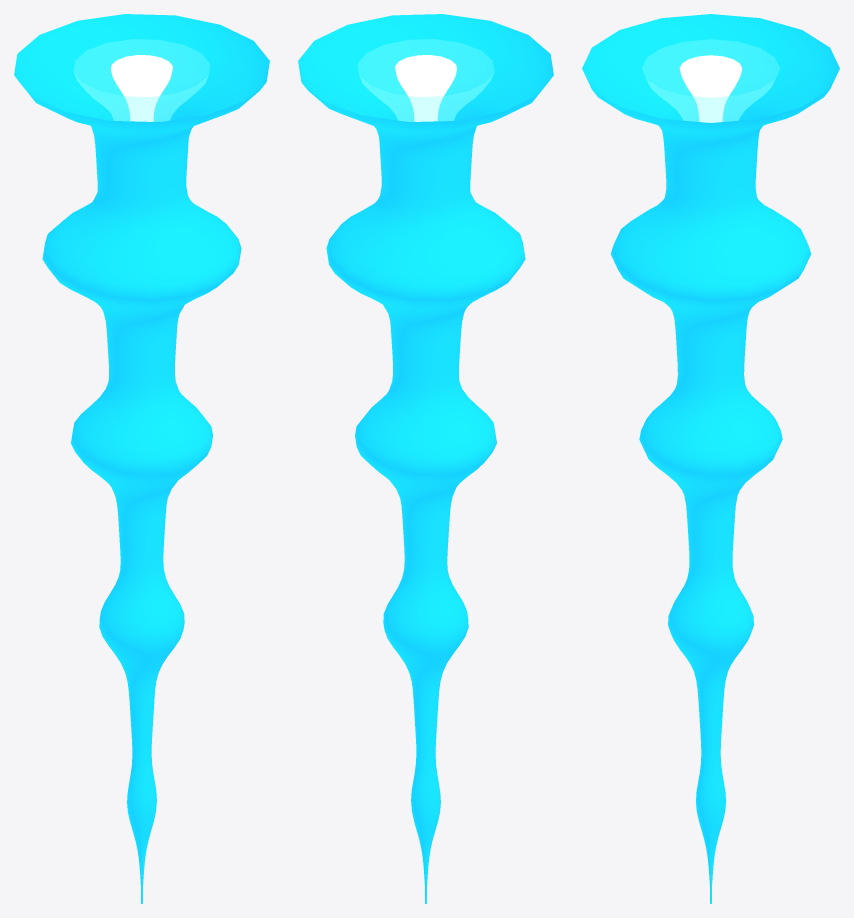
The model's file is jet_plume.glb.
3 renders of one model, left to right at view 1: azimuth 30°, elevation 25°; view 2: azimuth 150°, elevation 25°; view 3: azimuth 270°, elevation 25°, orthographic.
Bounding box in the file's own units: 0.28 × 1 × 0.28.
